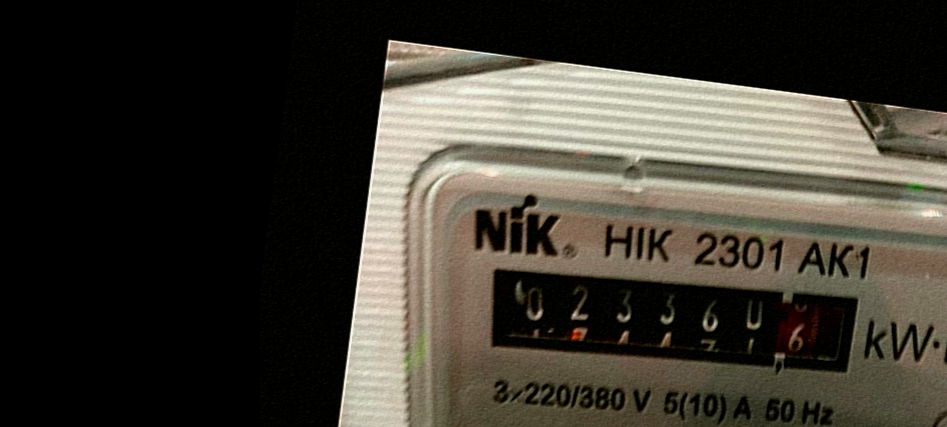0: (522, 280, 552, 325), (742, 294, 770, 333)
2: (566, 280, 597, 323)
3: (655, 287, 682, 328), (613, 284, 639, 326)
6: (697, 293, 728, 337), (787, 319, 812, 357)
screen: (463, 234, 876, 403)
